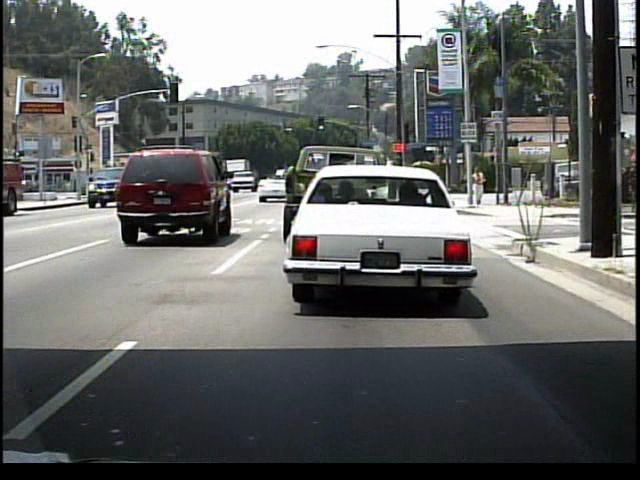person: (473, 167, 488, 208)
